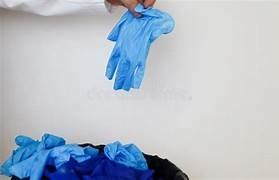Glove: (106, 4, 174, 90), (0, 134, 64, 175), (104, 141, 147, 169)
